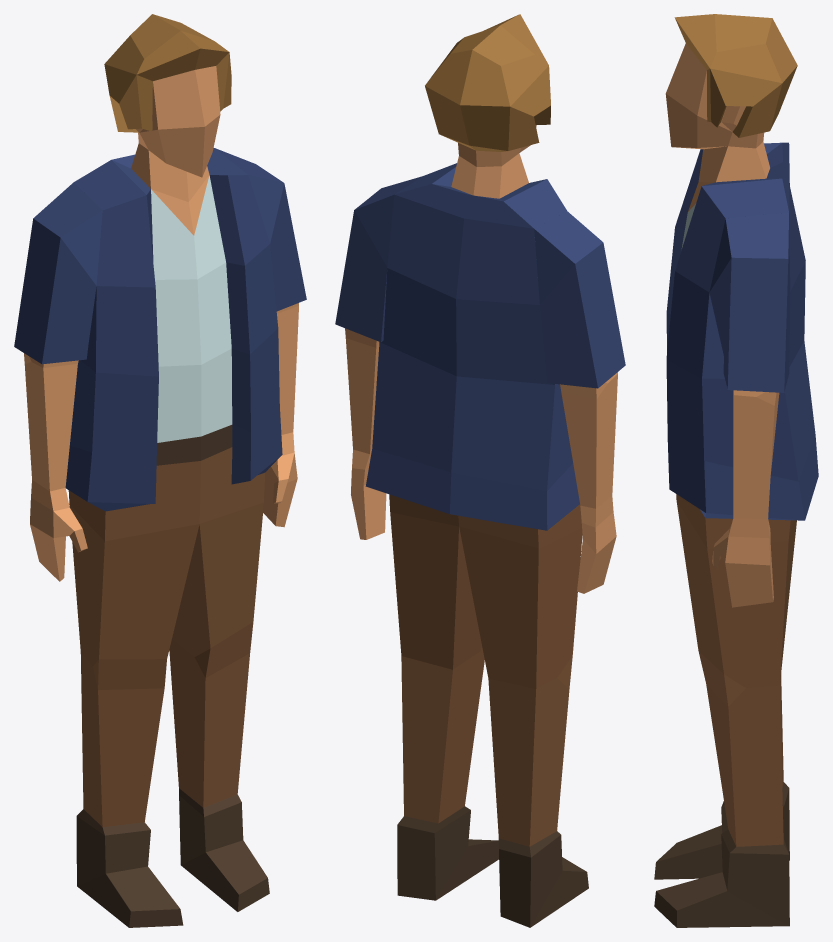
File: man-pedestrian.glb
3 views of the same model, side by side, from view 1: azimuth 30°, elevation 25°; view 2: azimuth 150°, elevation 25°; view 3: azimuth 270°, elevation 25° (orthographic). The views are drawn at different scales.
Parts seen in each view (by area): view 1: man-pedestrian; view 2: man-pedestrian; view 3: man-pedestrian.
Boxes of the visible parts, bbox=[...] form: man-pedestrian: bbox=[14, 14, 306, 927]; man-pedestrian: bbox=[335, 14, 625, 927]; man-pedestrian: bbox=[654, 14, 818, 927].
Size of the model in its own units: 0.5855 by 1.83 by 0.3102.
Materials: 1 (1 with a texture image).
